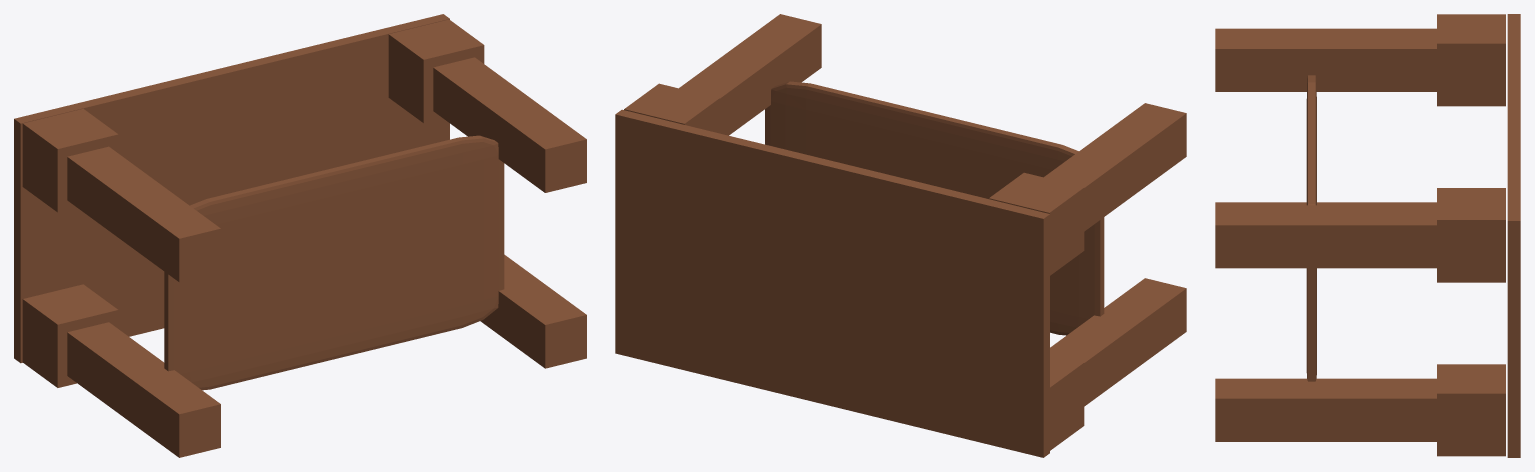
The model's file is Mesa_pequeña.fbx.
3 renders of one model, left to right at view 1: azimuth 30°, elevation 25°; view 2: azimuth 150°, elevation 25°; view 3: azimuth 270°, elevation 25°, orthographic.
Visible parts, largest first — view 1: Cube.027; view 2: Cube.027; view 3: Cube.027.
Part boxes in pixels (x1,y1,x2,y2): Cube.027: (14, 14, 586, 457); Cube.027: (615, 14, 1186, 457); Cube.027: (1215, 14, 1520, 457).
Bounding box in the file's own units: 1.5 × 0.801 × 0.9342.
